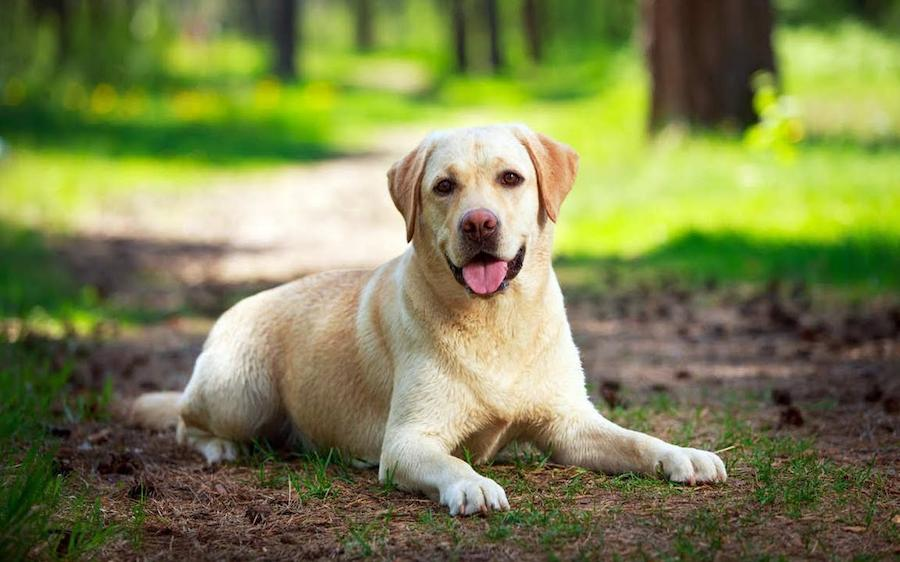dog: (106, 117, 738, 520)
